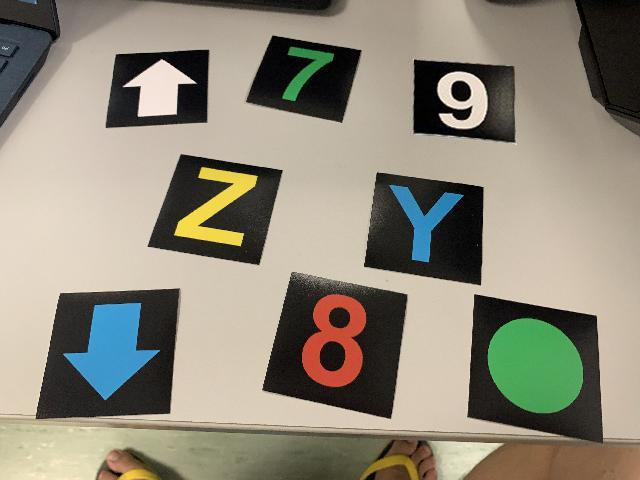7: (244, 33, 363, 126)
8: (261, 270, 410, 420)
9: (412, 58, 519, 144)
down: (35, 286, 183, 422)
go: (465, 292, 607, 448)
up: (104, 47, 211, 132)
y: (364, 171, 485, 287)
z: (145, 150, 285, 267)
